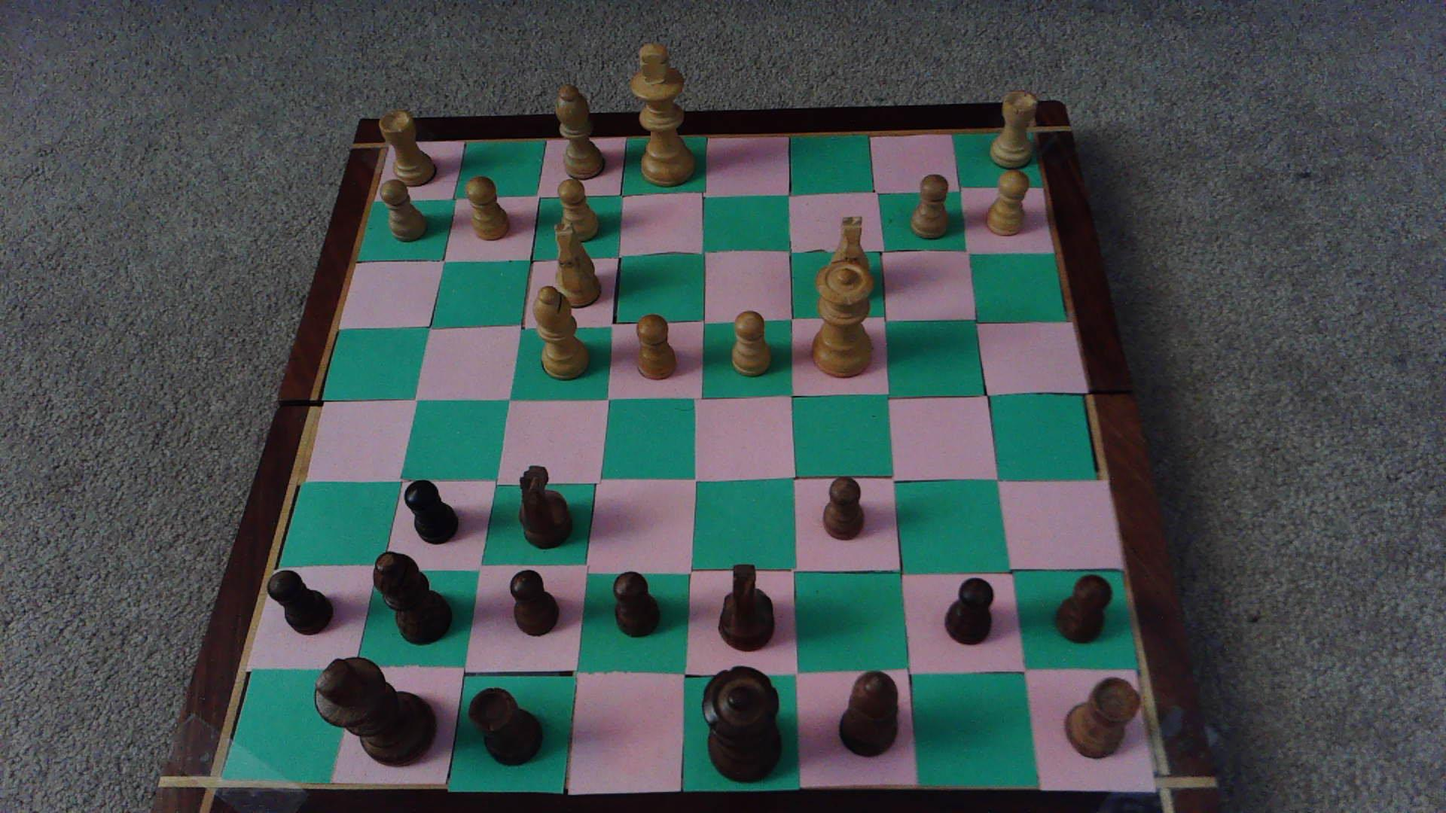dark_piece: (314, 657, 435, 765), (702, 666, 781, 782), (375, 553, 451, 644), (1064, 678, 1139, 757), (468, 687, 543, 765), (839, 671, 898, 757), (718, 565, 774, 651), (267, 569, 333, 635), (520, 465, 572, 548), (1056, 574, 1112, 643), (403, 480, 457, 542), (944, 578, 993, 644), (510, 570, 559, 635), (612, 571, 659, 637), (822, 477, 863, 539)
white_piece: (630, 44, 694, 187), (811, 261, 874, 378), (533, 286, 587, 379), (556, 84, 604, 179), (826, 216, 874, 307), (380, 111, 435, 186), (554, 224, 601, 308), (989, 91, 1038, 169), (380, 179, 427, 242), (556, 178, 600, 242), (465, 176, 508, 240), (987, 170, 1029, 235), (636, 314, 676, 379), (731, 311, 770, 376), (911, 174, 948, 239)
